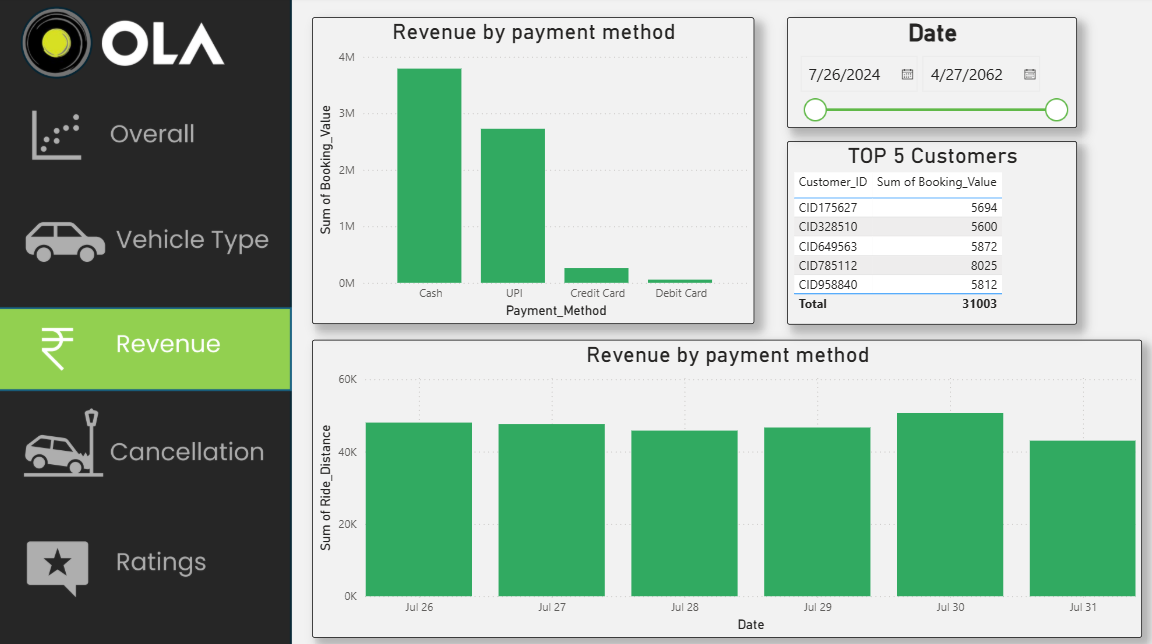

The page's visual inventory and layout, read from the dashboard file:
{"tool":"powerbi","page":{"name":"Revenue","canvas":[1280,720],"ordinal":2},"visuals":[{"type":"actionButton","box":[0,222,322.1,90.5],"z":0},{"type":"actionButton","box":[0,342.6,322.1,90.5],"z":1000},{"type":"actionButton","box":[0,448.8,322.1,90.5],"z":2000},{"type":"actionButton","box":[0,585.1,322.1,90.5],"z":3000},{"type":"actionButton","box":[0,113.4,322.1,90.5],"z":4000},{"type":"columnChart","title":"Revenue by payment method","fields":{"Category":["July.Payment_Method"],"Y":["Sum(July.Booking_Value)"]},"box":[345.7,22.9,485.7,337.1],"z":5000},{"type":"columnChart","title":"Revenue by payment method","fields":{"Y":["Sum(July.Ride_Distance)"],"Category":["July.Date"]},"box":[345.7,377.1,911.4,327.1],"z":6000},{"type":"slicer","title":"Date","fields":{"Values":["July.Date"]},"box":[867.1,22.9,318.6,121.4],"z":7000},{"type":"tableEx","title":"TOP 5 Customers","fields":{"Values":["July.Customer_ID","Sum(July.Booking_Value)"]},"box":[867.1,158.6,318.6,201.4],"z":8000}]}

Visuals, with their boxes on the page's 1280x720 design canvas (x1, y1, x2, y2). These are canvas units, not pixel positions in the 1152x644 screenshot, which may show the page scaled, cropped or inside an application window:
actionButton: x1=0 y1=222 x2=322 y2=312
actionButton: x1=0 y1=343 x2=322 y2=433
actionButton: x1=0 y1=449 x2=322 y2=539
actionButton: x1=0 y1=585 x2=322 y2=676
actionButton: x1=0 y1=113 x2=322 y2=204
"Revenue by payment method" columnChart: x1=346 y1=23 x2=831 y2=360
"Revenue by payment method" columnChart: x1=346 y1=377 x2=1257 y2=704
"Date" slicer: x1=867 y1=23 x2=1186 y2=144
"TOP 5 Customers" tableEx: x1=867 y1=159 x2=1186 y2=360
